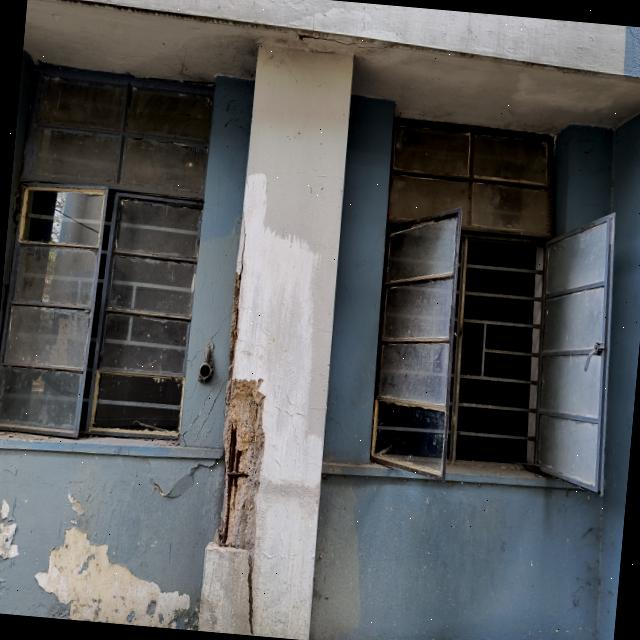Crack: (180, 380, 226, 445), (296, 33, 390, 50), (235, 206, 248, 271), (247, 554, 253, 633)
Paint Peeling: (35, 527, 189, 628), (0, 499, 18, 560), (68, 492, 83, 515)
Scaling: (149, 460, 214, 497)
Spalling: (213, 261, 264, 550)
